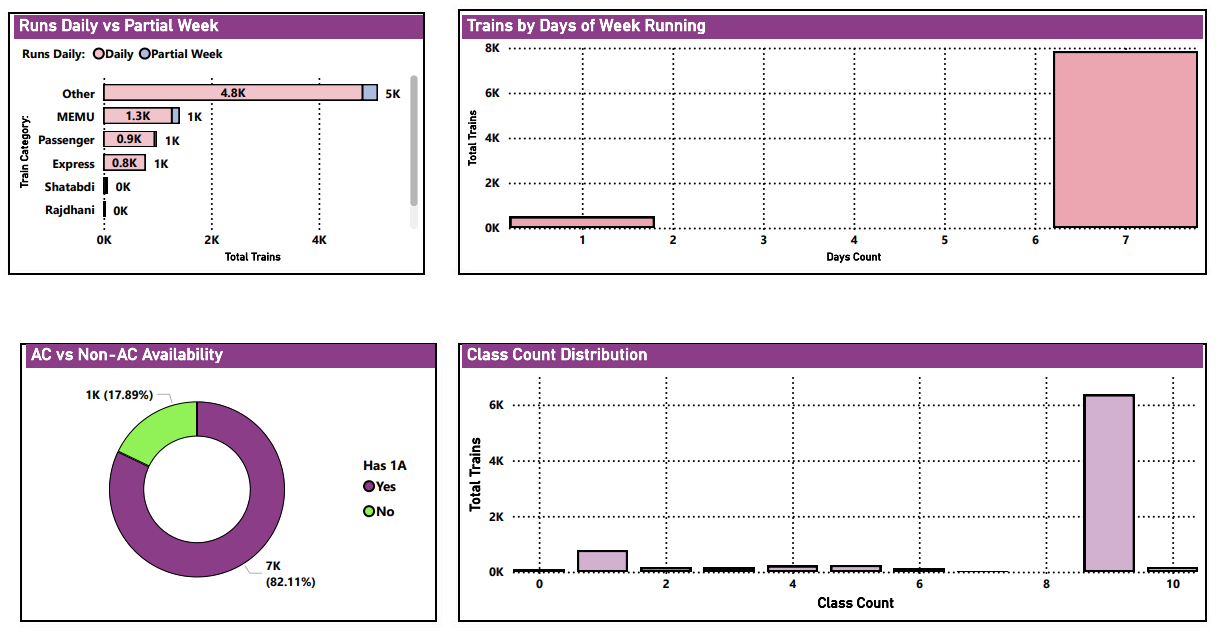

Layout of this report page (visuals, bound fields, positions):
{"tool":"powerbi","page":{"name":"Class & Frequency Analysis","canvas":[1280,720],"ordinal":2},"visuals":[{"type":"barChart","title":" Runs Daily vs Partial Week","fields":{"Category":["IRCTC_cleaned.Train Category:"],"Series":["IRCTC_cleaned. Runs Daily:"],"Y":["Measuress.Total Trains"]},"box":[50.8,41.2,409.1,253],"z":0},{"type":"clusteredColumnChart","title":"Trains by Days of Week Running","fields":{"Y":["Measuress.Total Trains"],"Category":["IRCTC_cleaned.Days Count"]},"box":[498.7,41.2,740.8,253],"z":1000},{"type":"donutChart","title":"AC vs Non-AC Availability","fields":{"Category":["IRCTC_cleaned.Has 1A"],"Y":["Measuress.Total Trains"]},"box":[63.1,370.5,408.9,271.7],"z":1001},{"type":"clusteredColumnChart","title":"Class Count Distribution","fields":{"Category":["IRCTC_cleaned.Class Count"],"Y":["Measuress.Total Trains"]},"box":[499,370,741,272],"z":1002}]}

Visuals, with their boxes on the page's 1280x720 design canvas (x1, y1, x2, y2). These are canvas units, not pixel positions in the 1223x637 screenshot, which may show the page scaled, cropped or inside an application window:
" Runs Daily vs Partial Week" barChart: <box>51,41,460,294</box>
"Trains by Days of Week Running" clusteredColumnChart: <box>499,41,1240,294</box>
"AC vs Non-AC Availability" donutChart: <box>63,370,472,642</box>
"Class Count Distribution" clusteredColumnChart: <box>499,370,1240,642</box>
